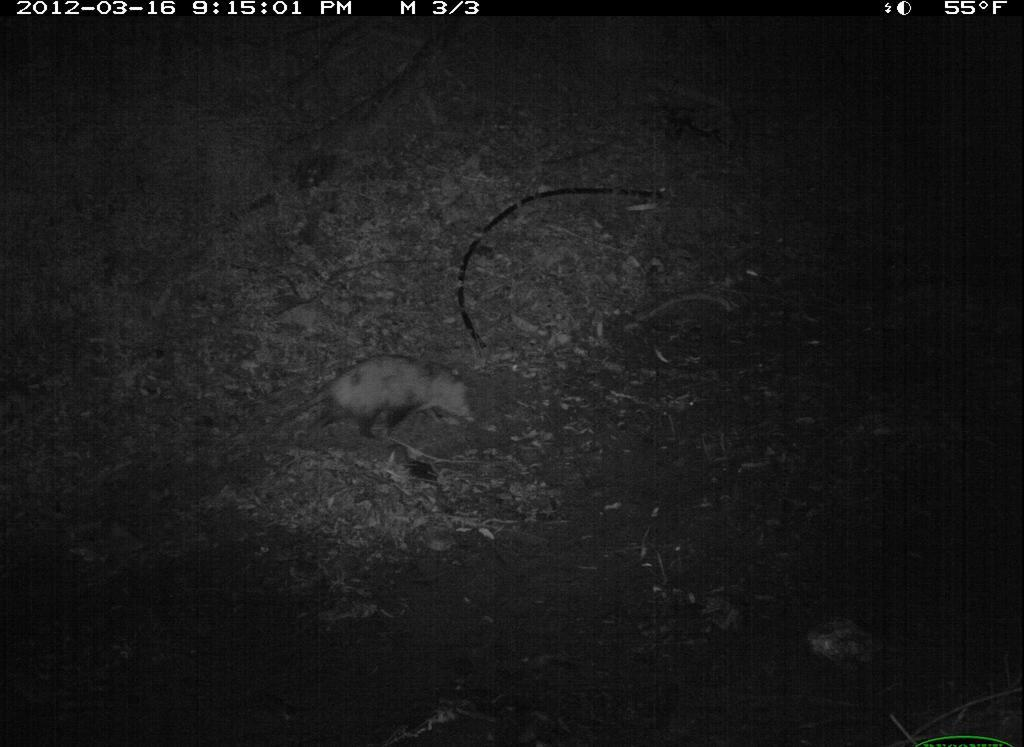opossum: (268, 346, 489, 449)
